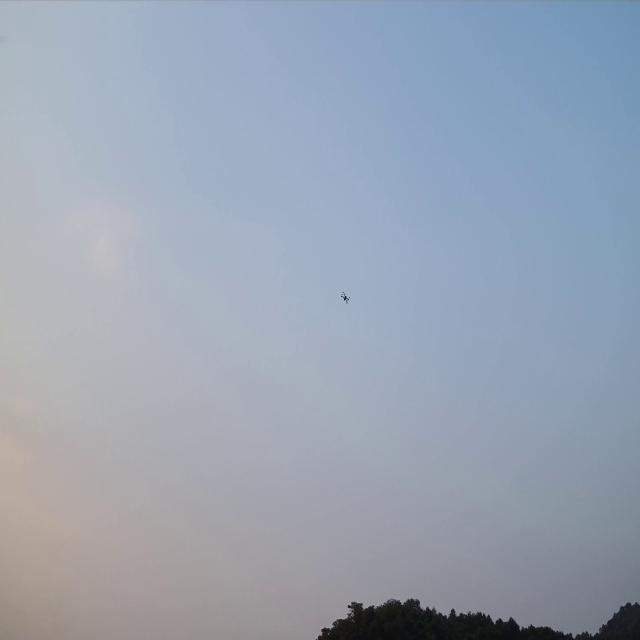UAV: (340, 292, 350, 304)
